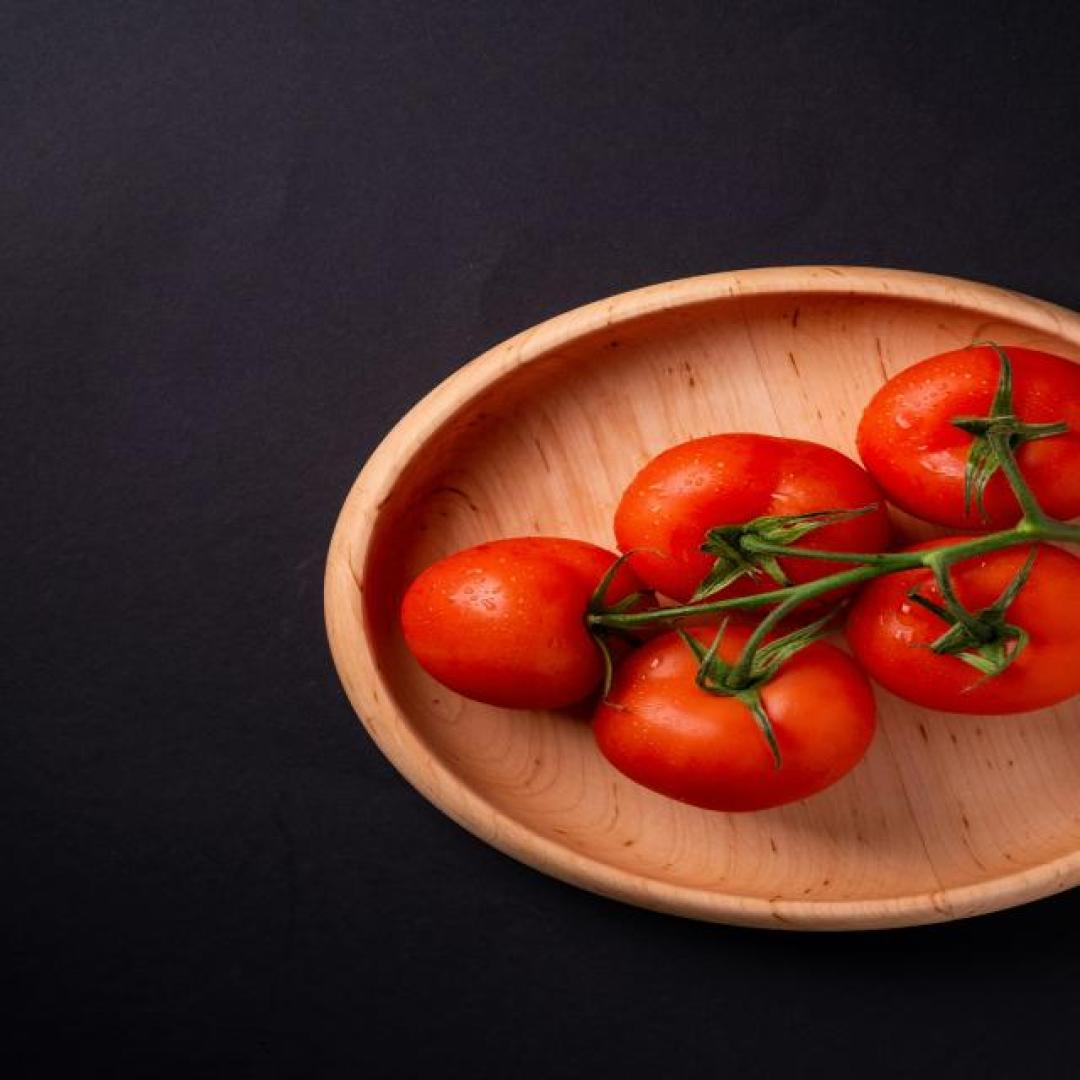matang: (612, 434, 900, 619), (596, 624, 879, 812), (403, 538, 670, 712), (847, 534, 1080, 716), (860, 347, 1080, 531)
